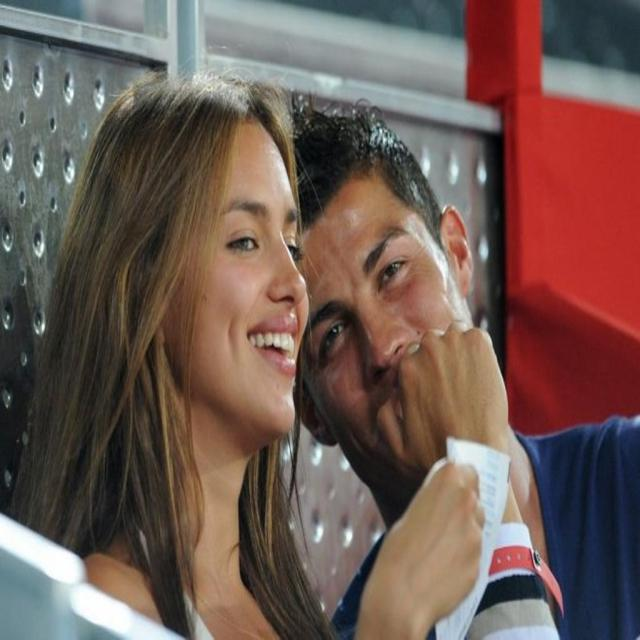Face: (287, 164, 489, 463), (200, 124, 315, 451)
